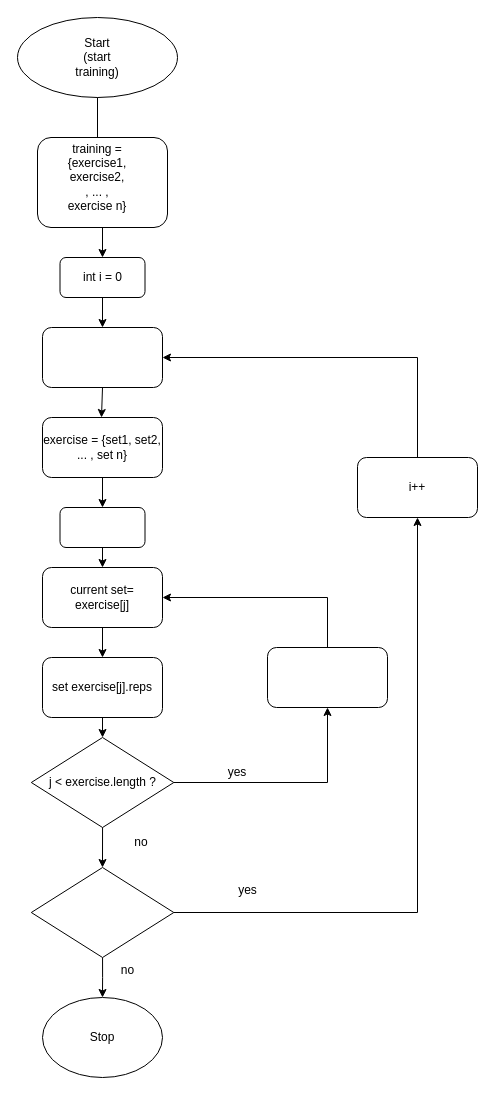
This 495x1095 diagram has some shape labels left out. Here are the shapes that lost their labels. From the top down, the centre of each, then its label:
At pixel 102 357: "current exercise = training[i]".
At pixel 102 527: "int j = 0".
At pixel 327 677: "j++".
At pixel 102 912: "i < training.length ?".
